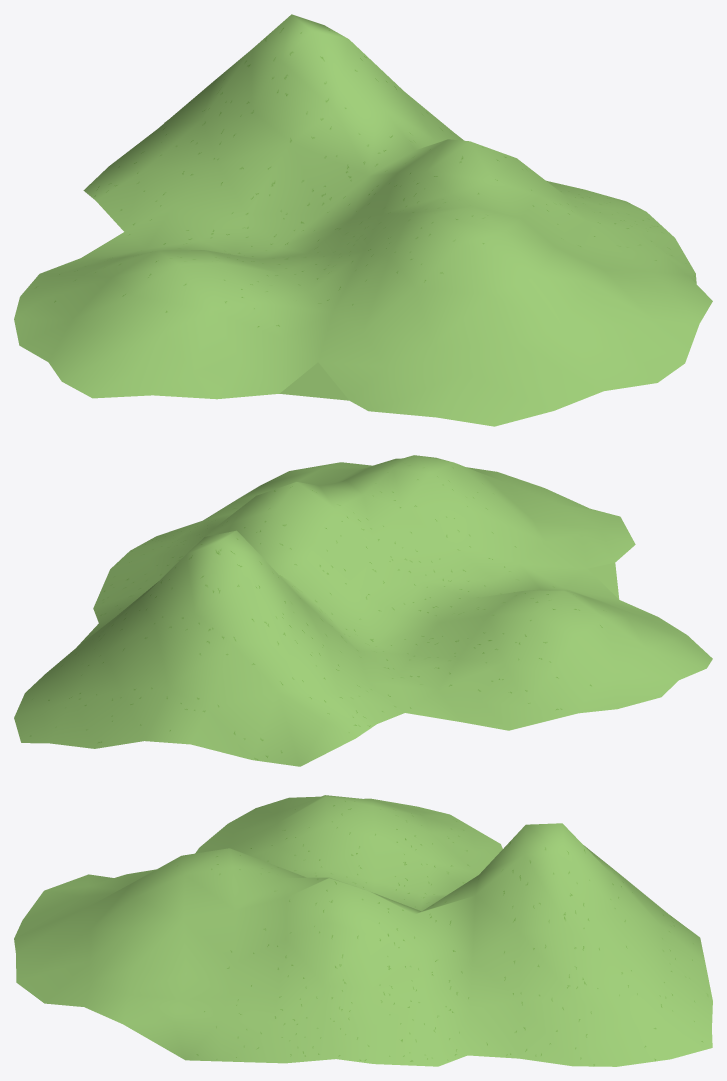
File: mountain.fbx
The picture shows the model from 3 angles, top to bottom: view 1: azimuth 30°, elevation 25°; view 2: azimuth 150°, elevation 25°; view 3: azimuth 270°, elevation 25°; orthographic projection. The views are drawn at different scales.
Parts seen in each view (by area): view 1: mountain; view 2: mountain; view 3: mountain.
Part boxes in pixels (x1,y1,x2,y2): mountain: [14, 14, 712, 426]; mountain: [14, 455, 712, 766]; mountain: [14, 795, 712, 1066].
Size of the model in its own units: 154721 by 46181 by 174122.
Materials: 1 (1 with a texture image).
